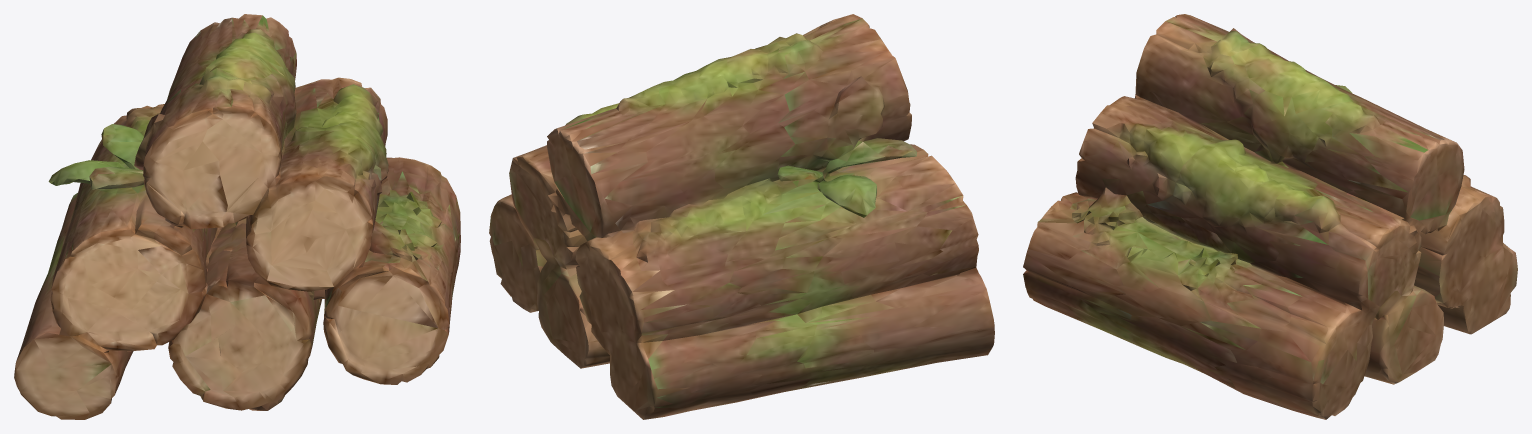
The model's file is troncos_apilados.glb.
3 views of the same model, side by side, from view 1: azimuth 30°, elevation 25°; view 2: azimuth 150°, elevation 25°; view 3: azimuth 270°, elevation 25° (orthographic). The views are drawn at different scales.
Visible parts, largest first — view 1: troncos_apilados_malla; view 2: troncos_apilados_malla; view 3: troncos_apilados_malla.
Part boxes in pixels (x1,y1,x2,y2): troncos_apilados_malla: (14, 14, 460, 419); troncos_apilados_malla: (489, 14, 994, 419); troncos_apilados_malla: (1023, 14, 1517, 419).
Bounding box in the file's own units: 0.2917 × 0.1691 × 0.2782.
1 material, 1 textured.
